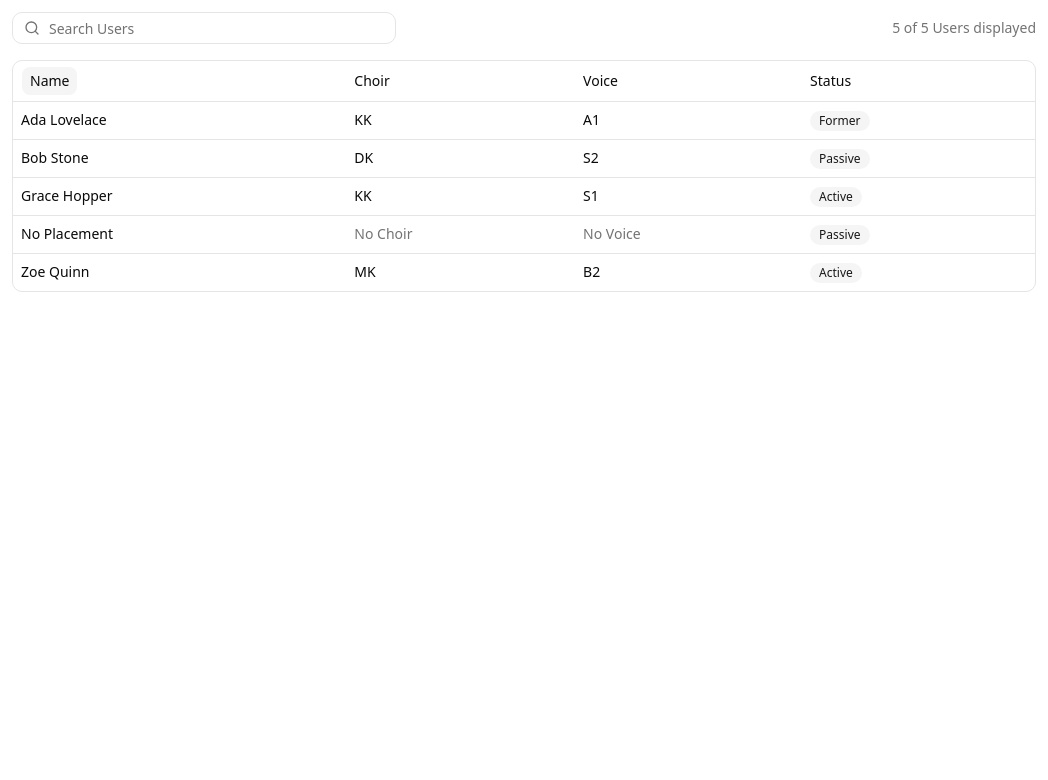
Test: Member collection › groups filtered users by the selected column and keeps names sorted within each group
Click the button "Status" at (831, 81), box [802,67,859,95]
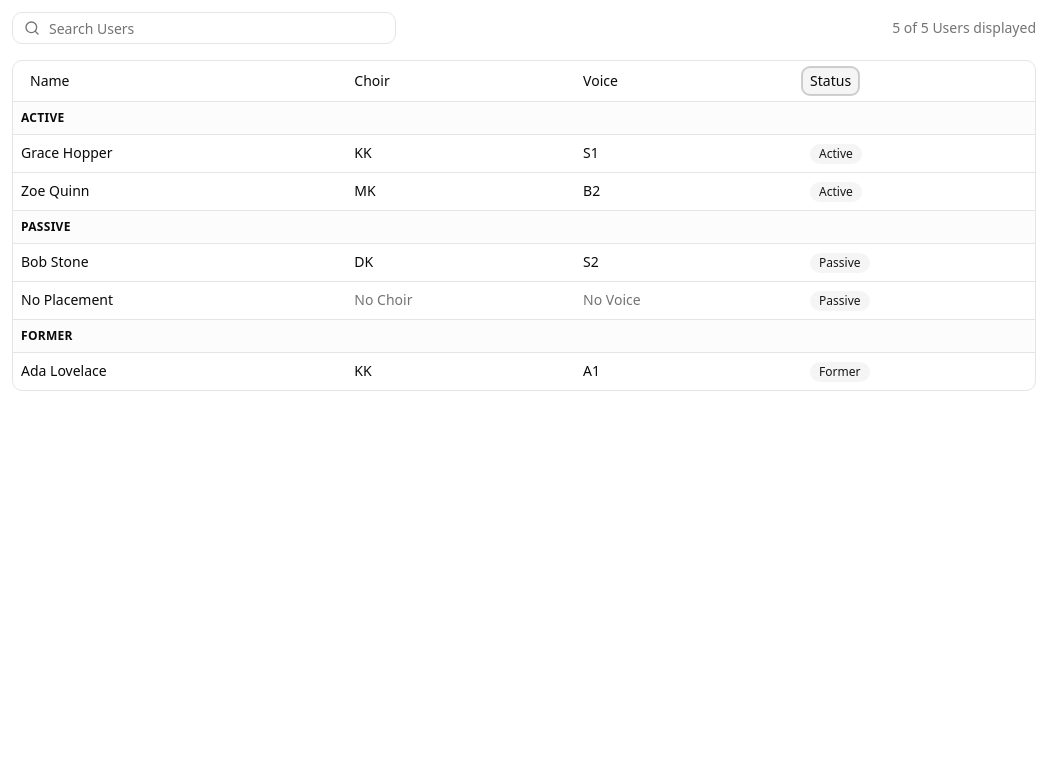
Click the button "Voice" at (600, 81), box [575,67,626,95]
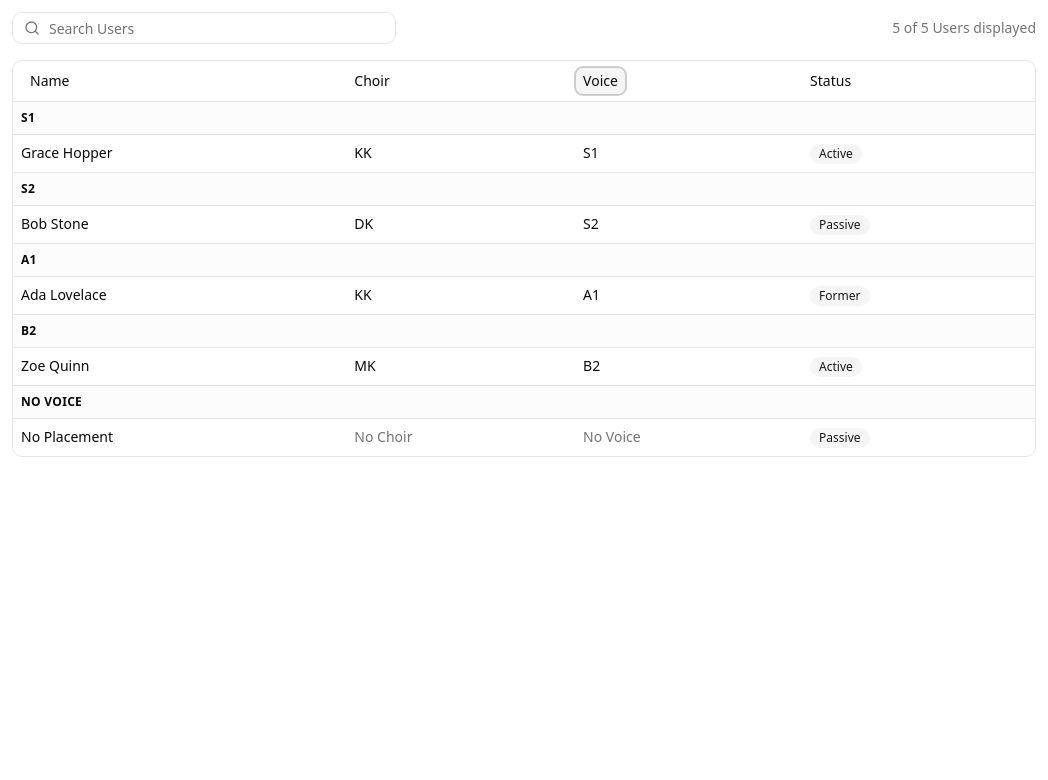
Click the button "Choir" at (372, 81), box [346,67,398,95]
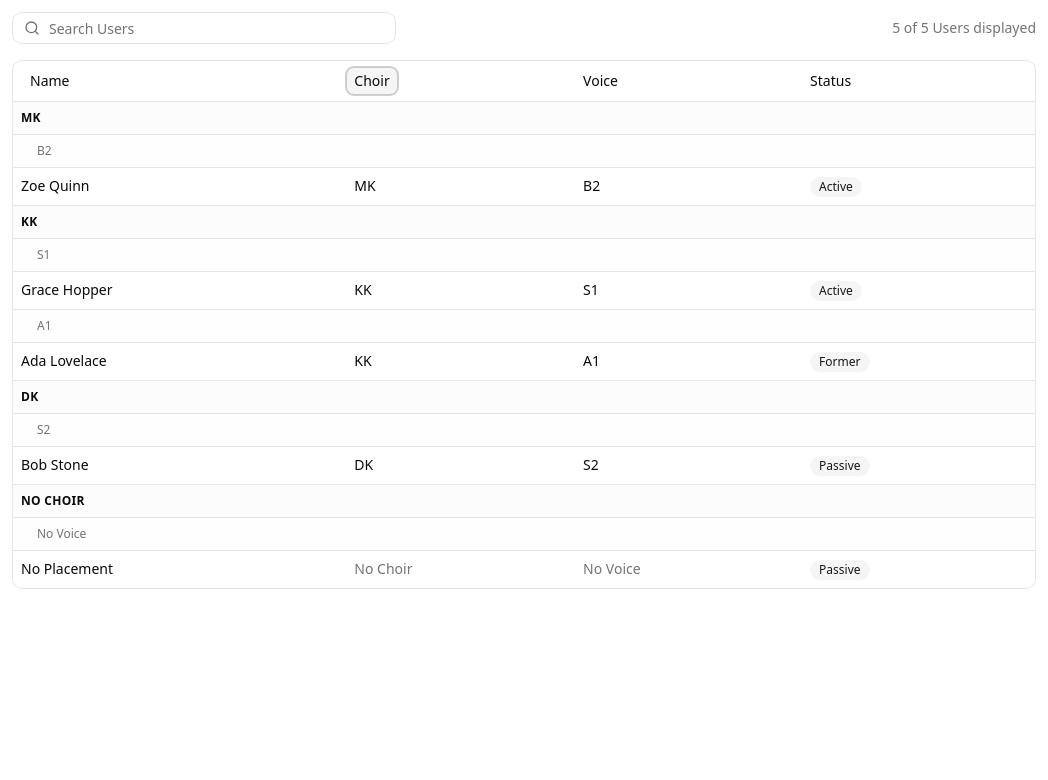
Click the button "Name" at (50, 81), box [22,67,78,95]
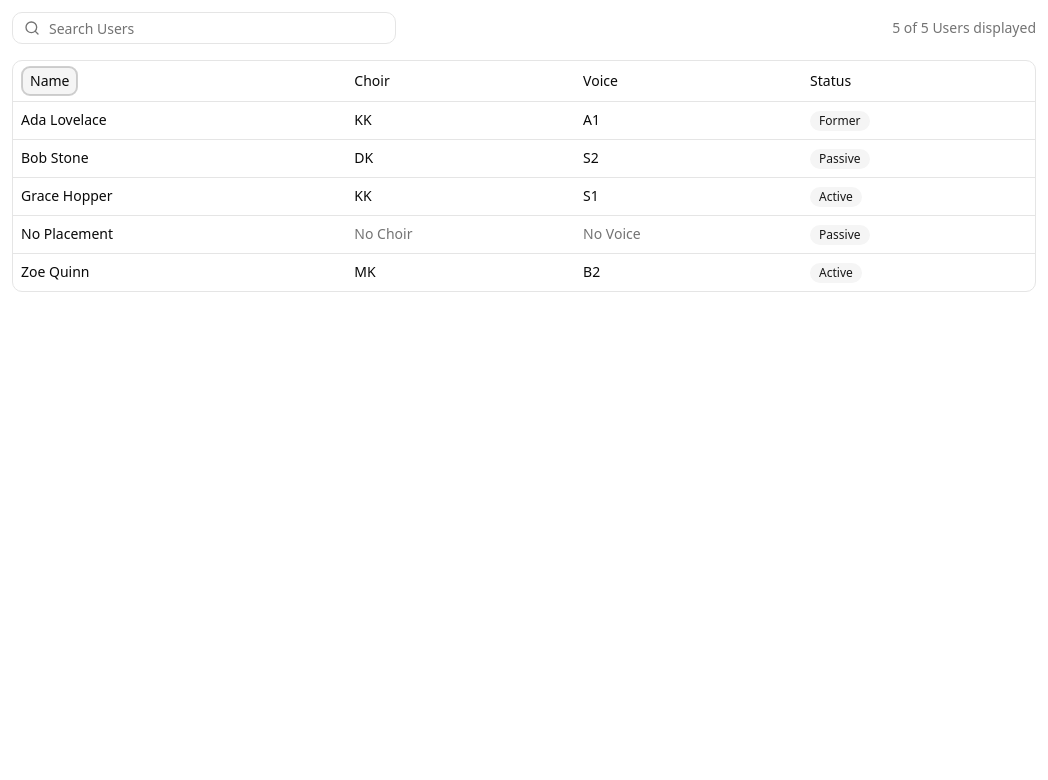
Expected: the links read "Ada Lovelace", "Bob Stone", "Grace Hopper", "No Placement", "Zoe Quinn", in this order, [21,110,107,129]; [21,148,89,167]; [21,186,112,205]; [21,224,113,243]; [21,262,90,281]
